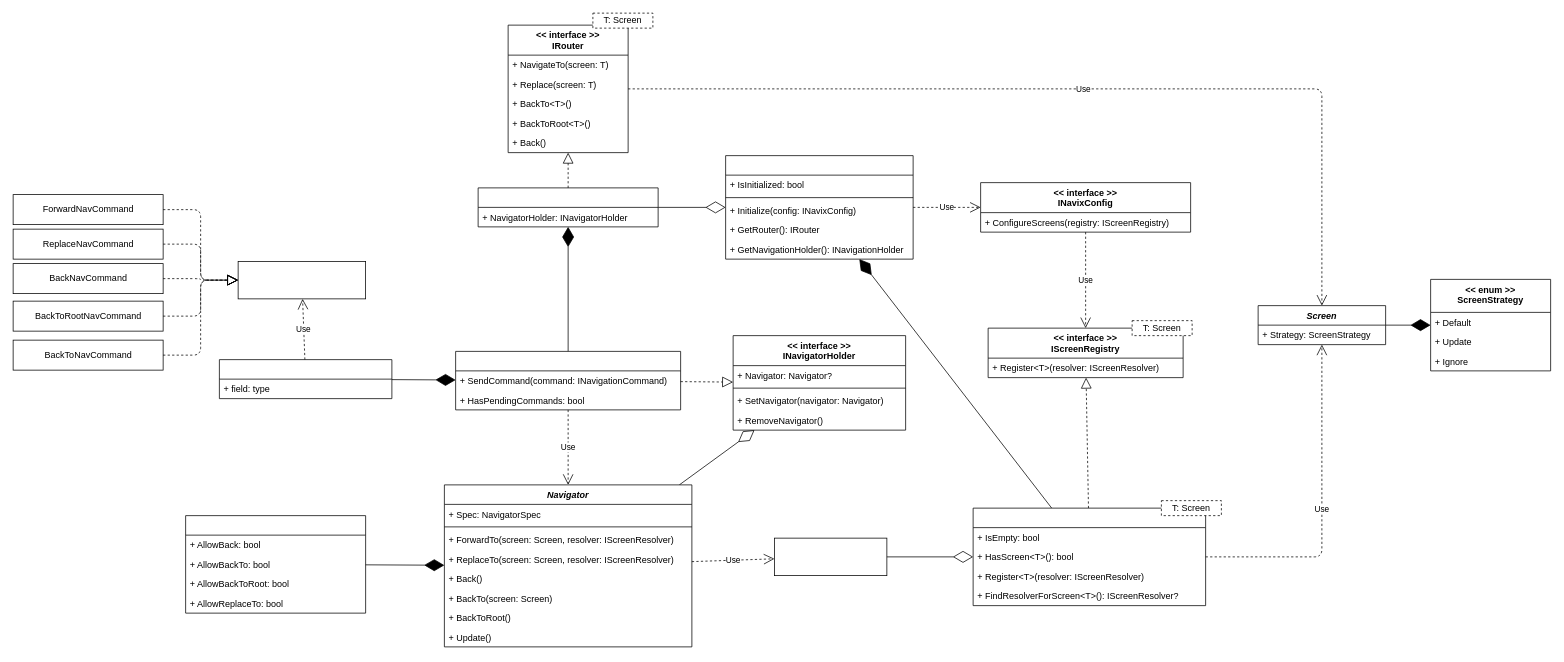
The diagram is 1564 pixels wide and 662 high, and some of its shapes have lost their labels. The shapes that lost their labels are listed below. From the top down, each one's box as (x1, y1, x2, y2) in pixels, then its label:
(477, 187, 658, 227): Router
(725, 155, 913, 259): NavixService
(237, 261, 366, 299): «interface» INavigationCommand
(219, 359, 392, 399): CommandsBuffer
(455, 351, 681, 410): NavigationManager
(185, 515, 366, 613): NavigatorSpec
(774, 537, 887, 576): «interface» IScreenResolver
(972, 507, 1206, 606): ScreenRegistry
